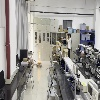fire: (38, 48, 41, 64)
